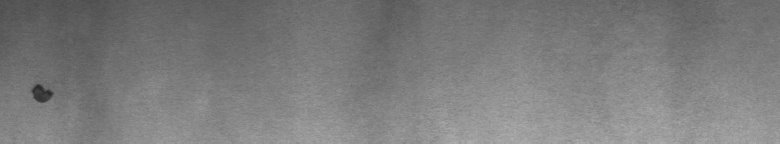fi: (25, 75, 58, 112)
